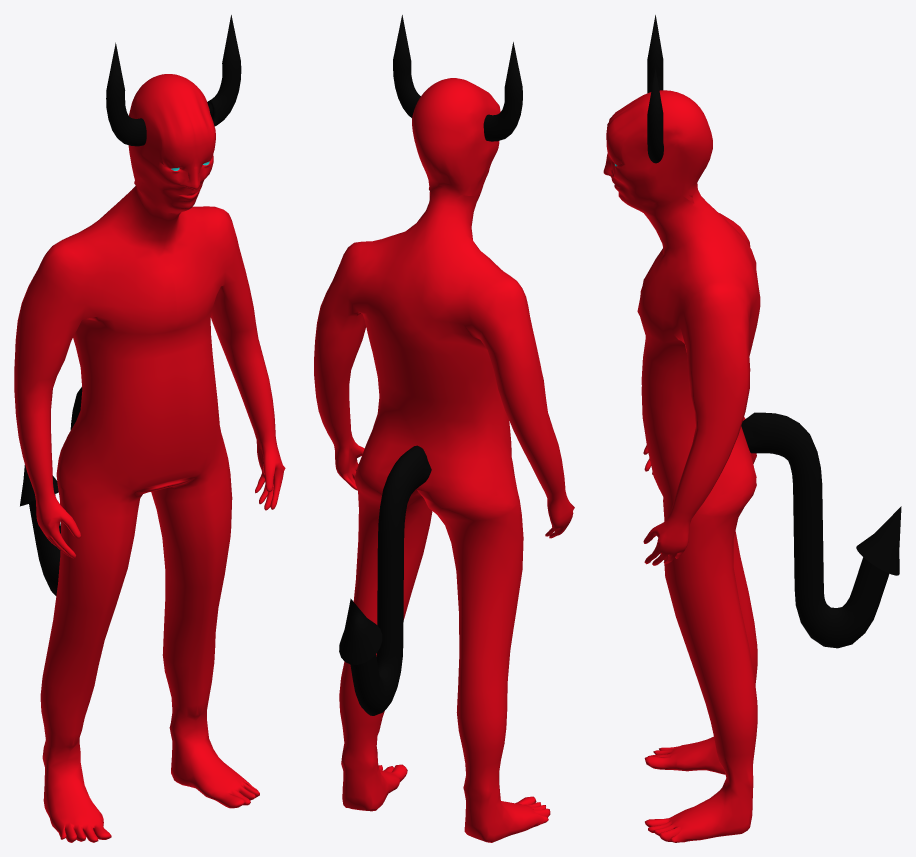
Rendered from RedArremer.fbx.
The picture shows the model from 3 angles, left to right: view 1: azimuth 30°, elevation 25°; view 2: azimuth 150°, elevation 25°; view 3: azimuth 270°, elevation 25°; orthographic projection. The views are drawn at different scales.
Parts seen in each view (by area): view 1: pCylinder15; view 2: pCylinder15; view 3: pCylinder15.
Boxes of the visible parts, left/top/right/bottom form: pCylinder15: left=14, top=15, right=285, bottom=842; pCylinder15: left=314, top=15, right=574, bottom=842; pCylinder15: left=603, top=15, right=901, bottom=842.
Size of the model in its own units: 11.59 by 36.1 by 12.81.
